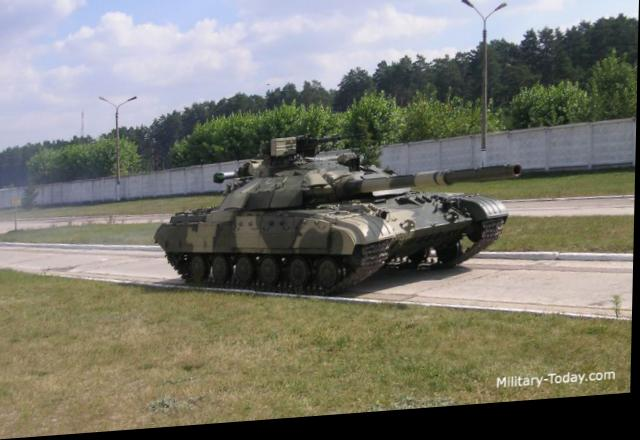tank: (159, 126, 503, 309)
